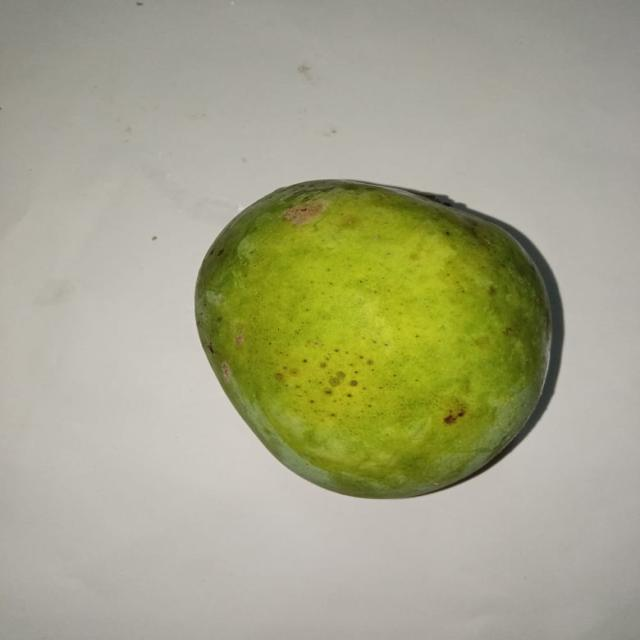fresh_mango: (193, 178, 555, 498)
